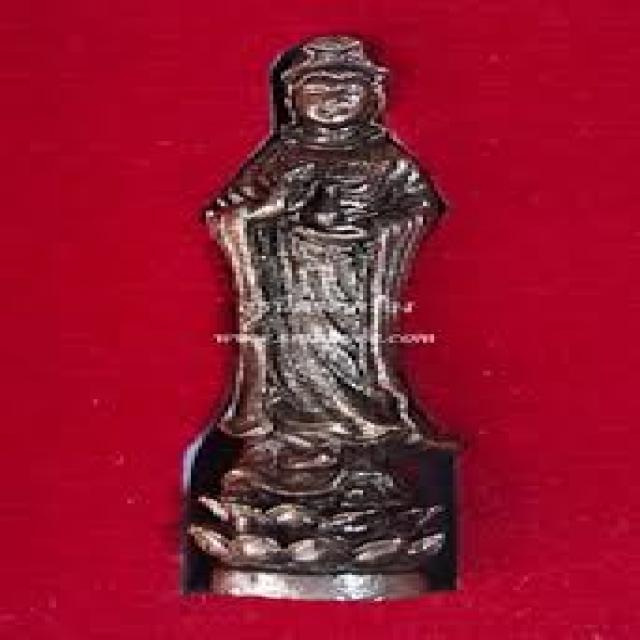Guan Yin: (194, 31, 448, 455)
